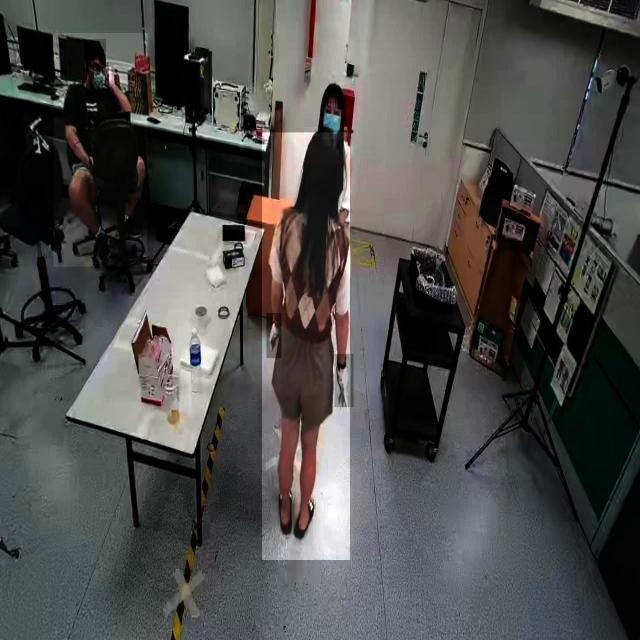gloves: (334, 354, 354, 408), (266, 313, 282, 358)
